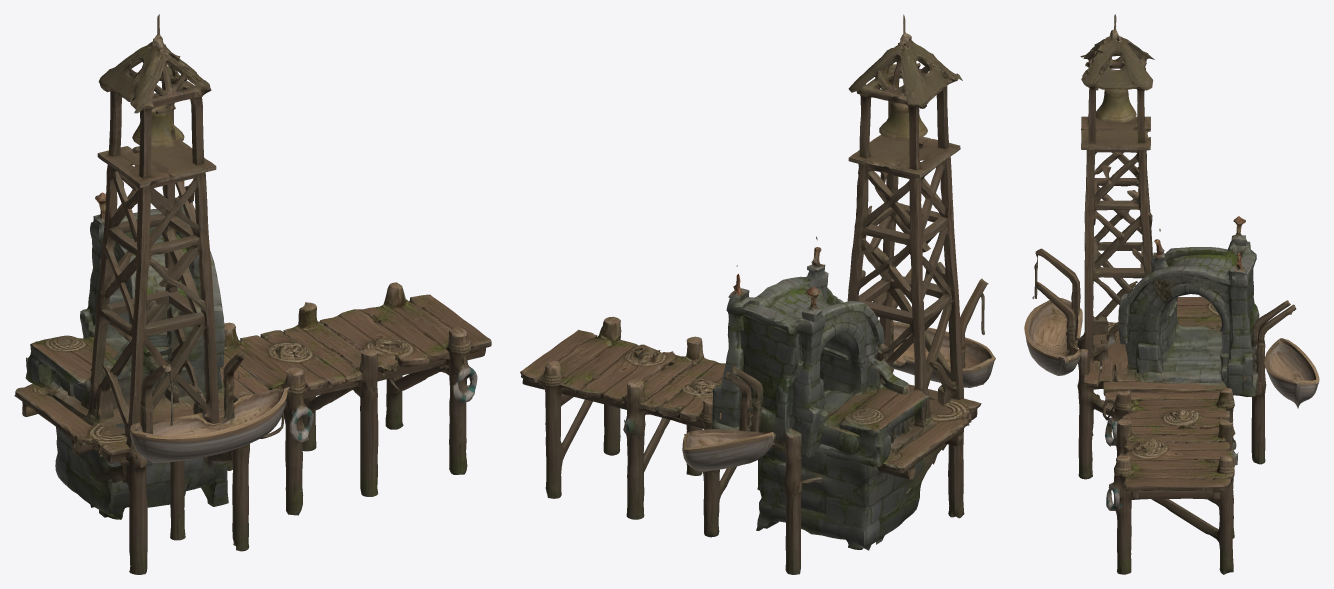
File: tidewake_shellwatch_rescue_jetty.glb
3 renders of one model, left to right at view 1: azimuth 30°, elevation 25°; view 2: azimuth 150°, elevation 25°; view 3: azimuth 270°, elevation 25°, orthographic. The views are drawn at different scales.
Parts seen in each view (by area): view 1: Mesh_0; view 2: Mesh_0; view 3: Mesh_0.
Part boxes in pixels (x1,y1,x2,y2): Mesh_0: (14,14,491,574); Mesh_0: (520,14,995,574); Mesh_0: (1024,14,1319,574).
Size of the model in its own units: 1.52 by 1.88 by 1.15.
Materials: 1 (1 with a texture image).
